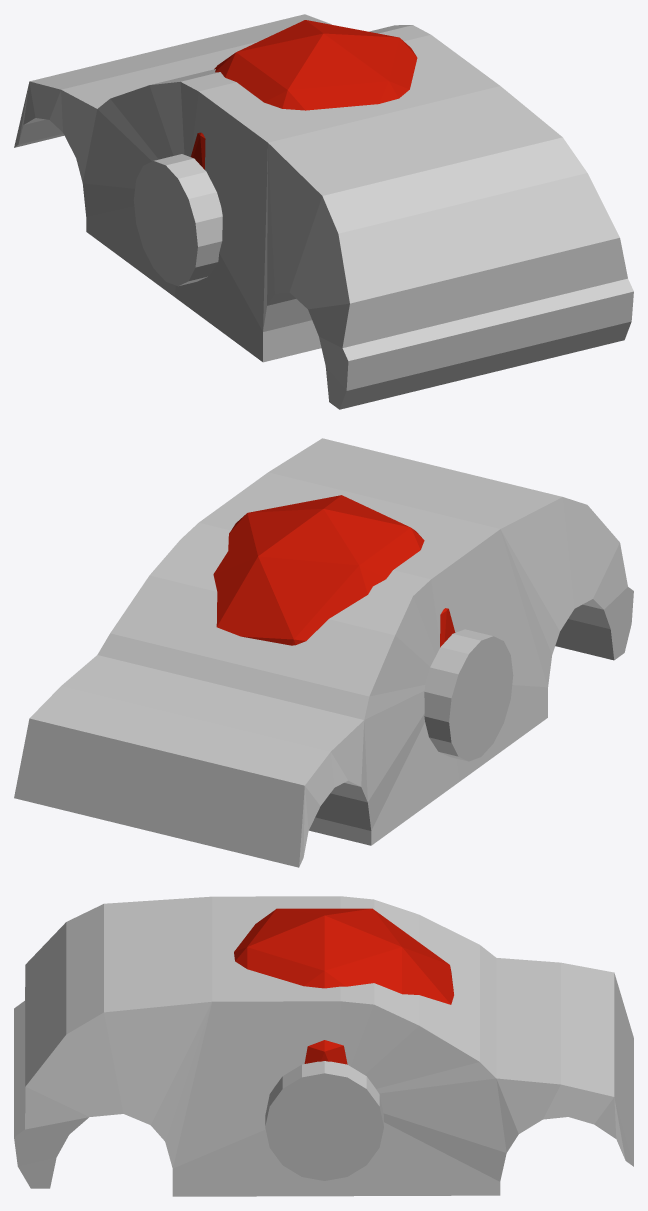
File: car.obj
The picture shows the model from 3 angles, top to bottom: view 1: azimuth 30°, elevation 25°; view 2: azimuth 150°, elevation 25°; view 3: azimuth 270°, elevation 25°; orthographic projection. The views are drawn at different scales.
Visible parts, largest first — view 1: Car, Obstacle, Tier-Front; view 2: Car, Obstacle, Tier-Front, Tier-Back; view 3: Car, Obstacle, Tier-Front, Tier-Back.
Part boxes in pixels (box(x1,y1,x2,y2)): Car: box(14, 14, 633, 409); Obstacle: box(191, 20, 417, 169); Tier-Front: box(133, 154, 222, 286); Car: box(14, 438, 633, 867); Obstacle: box(213, 495, 455, 647); Tier-Front: box(424, 629, 510, 761); Tier-Back: box(451, 655, 513, 720); Car: box(14, 896, 633, 1196); Obstacle: box(234, 908, 453, 1064); Tier-Front: box(265, 1061, 383, 1180); Tier-Back: box(266, 1107, 376, 1147).
Size of what is drawn, in the model's own units: 2.18 by 1.54 by 4.
